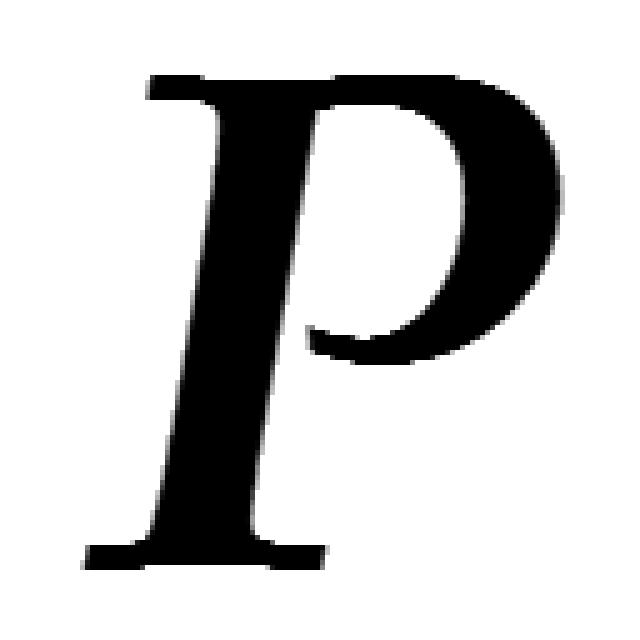P: (95, 72, 557, 582)
